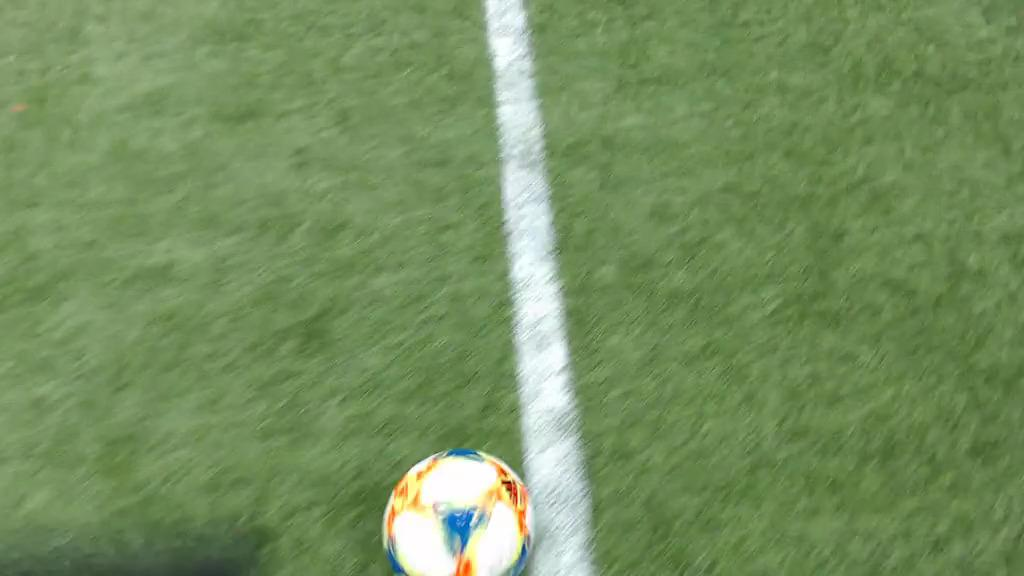ball: (379, 446, 534, 576)
